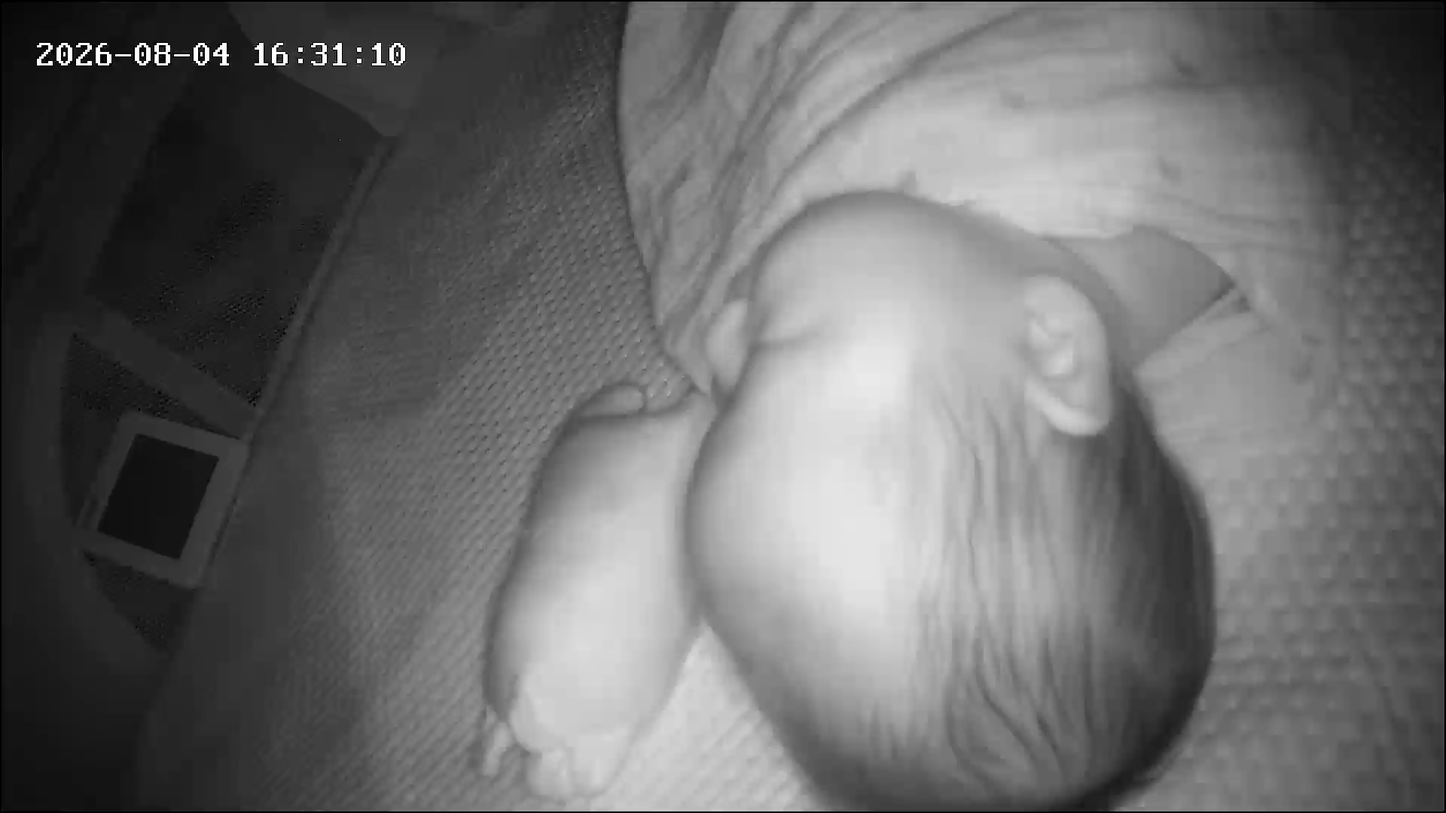baby: (529, 0, 1400, 812)
baby_face: (657, 210, 1226, 812)
